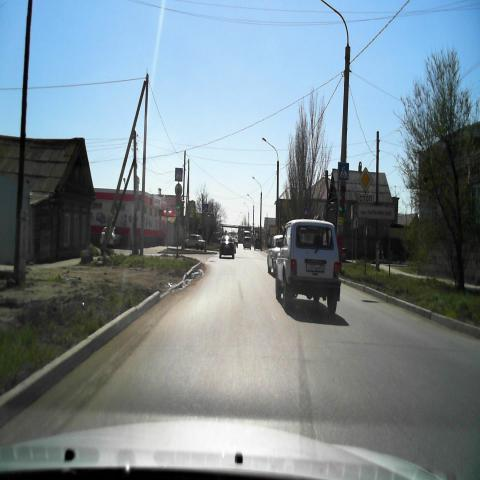2_1: (359, 168, 372, 192)
5_19_1: (337, 162, 349, 182), (174, 168, 184, 182)
6_16: (358, 194, 374, 205)
